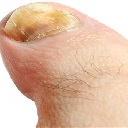Nail Fungal Infection: (10, 6, 74, 43)
